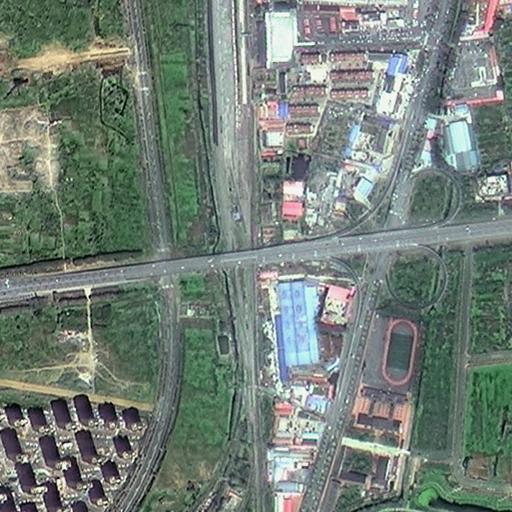school: (348, 313, 422, 437)
